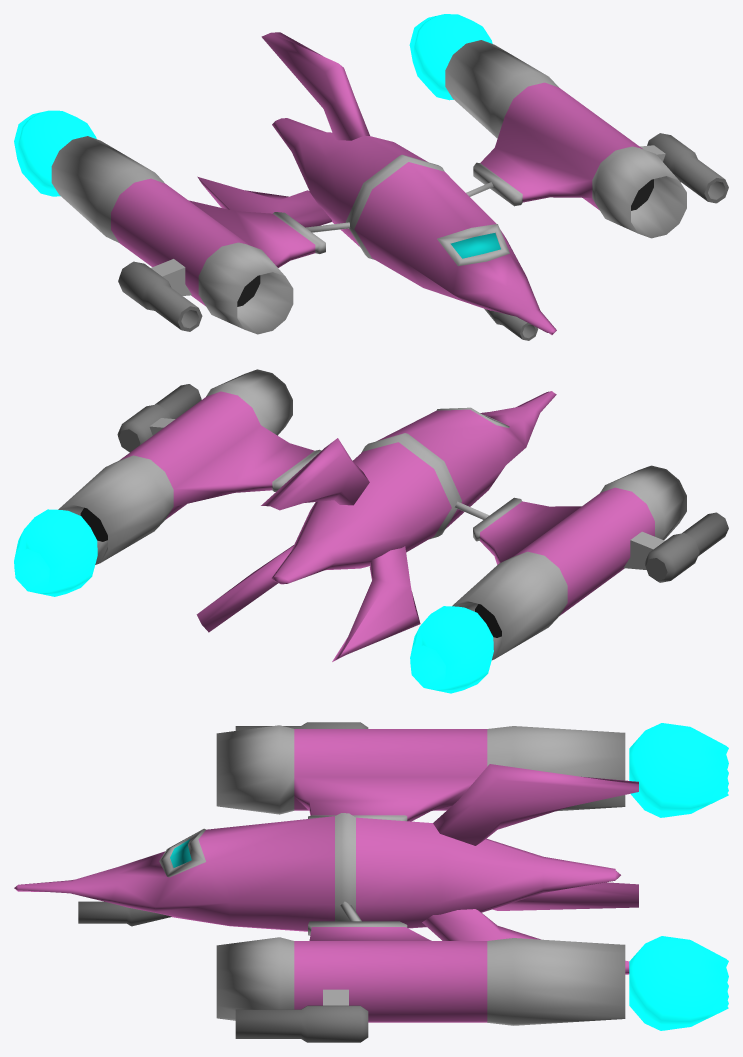
The model's file is Hummingbird.fbx.
The picture shows the model from 3 angles, top to bottom: view 1: azimuth 30°, elevation 25°; view 2: azimuth 150°, elevation 25°; view 3: azimuth 270°, elevation 25°; orthographic projection. The views are drawn at different scales.
Parts seen in each view (by area): view 1: Hummingbird_Secondary, Hummingbird_Primary, Hummingbird_Exhaust_Flame_Right, Hummingbird_Exhaust_Flame_Left, Hummingbird_Gun_Right, Hummingbird_Gun_Left, Hummingbird_Gun_Middle; view 2: Hummingbird_Secondary, Hummingbird_Primary, Hummingbird_Exhaust_Flame_Right, Hummingbird_Exhaust_Flame_Left, Hummingbird_Gun_Right, Hummingbird_Gun_Left; view 3: Hummingbird_Secondary, Hummingbird_Primary, Hummingbird_Exhaust_Flame_Left, Hummingbird_Exhaust_Flame_Right, Hummingbird_Gun_Left, Hummingbird_Gun_Middle, Hummingbird_Gun_Right.
Part boxes in pixels (x1,y1,x2,y2): Hummingbird_Secondary: [51, 40, 686, 334]; Hummingbird_Primary: [197, 32, 556, 334]; Hummingbird_Exhaust_Flame_Right: [14, 110, 96, 196]; Hummingbird_Exhaust_Flame_Left: [409, 14, 492, 100]; Hummingbird_Gun_Right: [118, 259, 202, 331]; Hummingbird_Gun_Left: [640, 133, 728, 203]; Hummingbird_Gun_Middle: [484, 308, 537, 340]; Hummingbird_Secondary: [58, 369, 686, 660]; Hummingbird_Primary: [196, 391, 556, 661]; Hummingbird_Exhaust_Flame_Right: [410, 606, 493, 693]; Hummingbird_Exhaust_Flame_Left: [14, 509, 97, 596]; Hummingbird_Gun_Right: [623, 512, 728, 582]; Hummingbird_Gun_Left: [117, 384, 201, 452]; Hummingbird_Secondary: [216, 725, 625, 1025]; Hummingbird_Primary: [14, 764, 638, 974]; Hummingbird_Exhaust_Flame_Left: [629, 936, 728, 1030]; Hummingbird_Exhaust_Flame_Right: [629, 723, 728, 817]; Hummingbird_Gun_Left: [235, 989, 368, 1042]; Hummingbird_Gun_Middle: [78, 901, 171, 926]; Hummingbird_Gun_Right: [235, 722, 368, 730].
Bounding box in the file's own units: 322 × 92.28 × 324.
